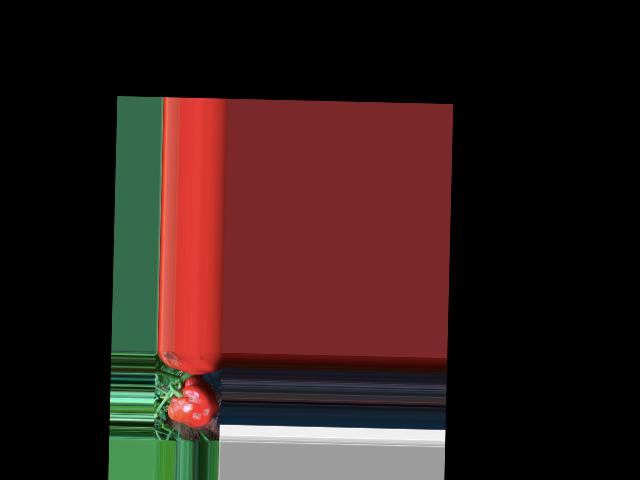bell_pepper: (162, 376, 222, 425)
